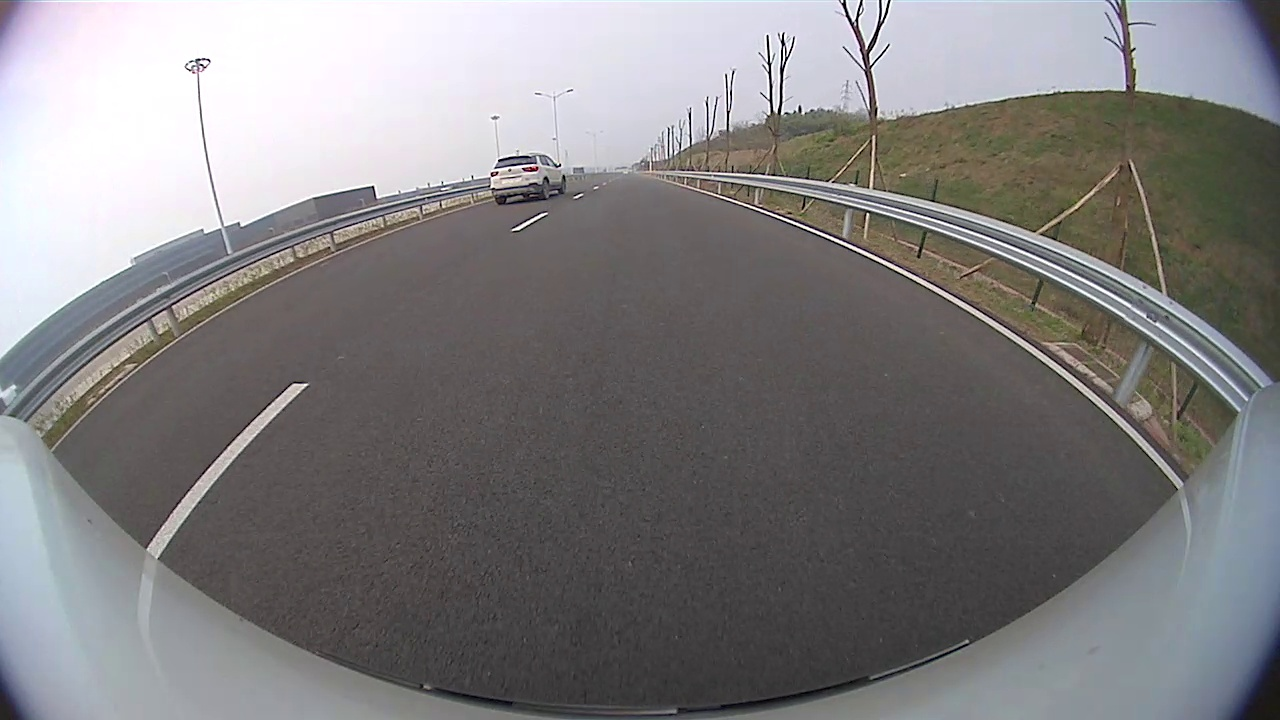car: (488, 151, 568, 208)
rear: (540, 178, 552, 201)
